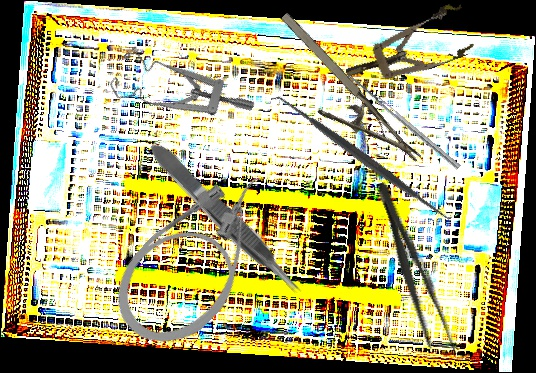Cannula: (94, 154, 304, 366)
Dressing Forceps: (365, 177, 462, 364)
Needle Holder: (255, 8, 422, 189)
Spatula Surgical: (267, 83, 457, 232), (340, 70, 461, 174)
Speculum: (101, 22, 257, 167), (336, 0, 479, 98)
Tissue Forceps: (144, 135, 308, 303)
